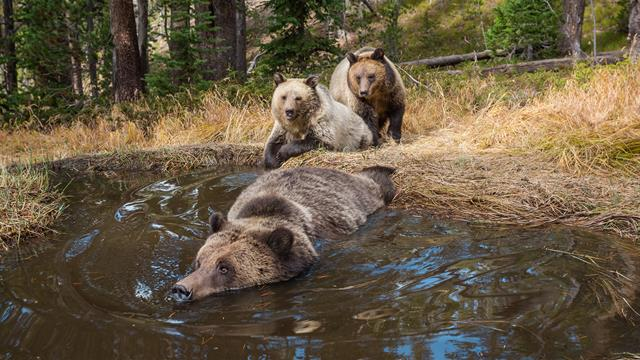bear: (171, 210, 297, 306), (269, 71, 321, 123), (343, 49, 388, 100)
